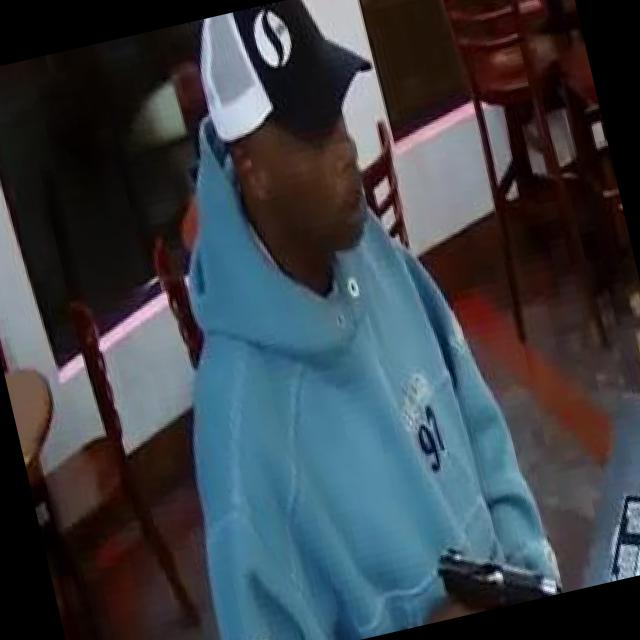Guns: (416, 508, 571, 622)
